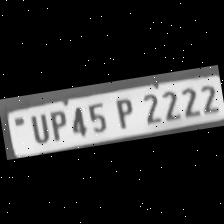2: (134, 89, 162, 126), (174, 82, 200, 118), (194, 80, 220, 116), (156, 85, 181, 121)
4: (64, 102, 88, 138)
5: (82, 99, 110, 134)
P: (108, 93, 138, 130), (44, 106, 68, 142)
U: (24, 110, 50, 144)
